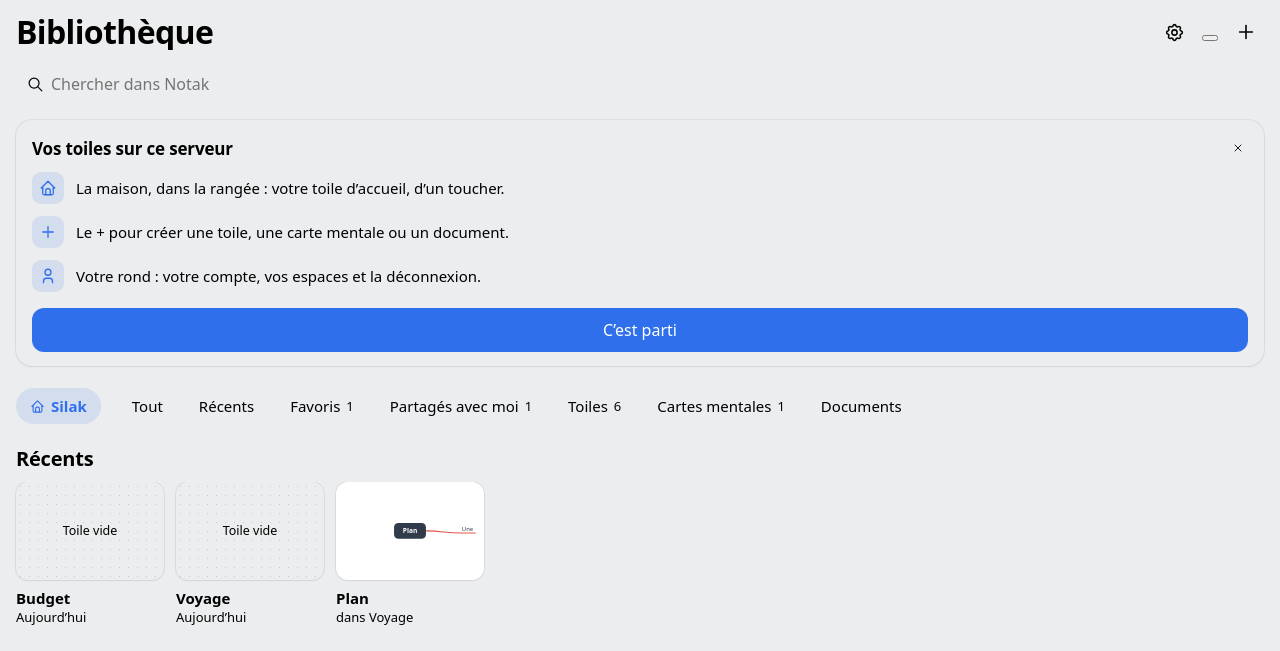
la bibliothèque d’un serveur au téléphone › au premier passage, une carte de bienvenue ; « C’est parti » ouvre l’accueil, et elle ne revient plus
Expected: the heading "Vos toiles sur ce serveur" is shown, [32,138,233,160]
Click the button with class "biblio-bienvenue-partir" at (640, 330), box [32,308,1248,352]
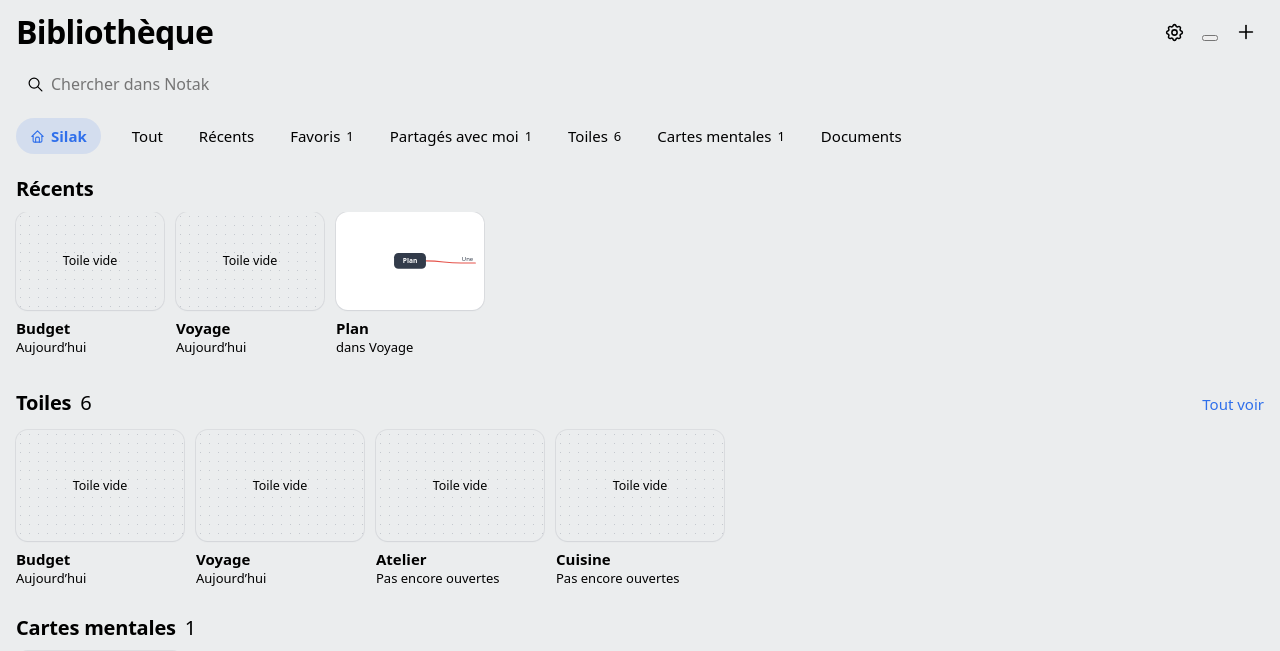
Expected: the element with class "biblio-bienvenue" is gone
